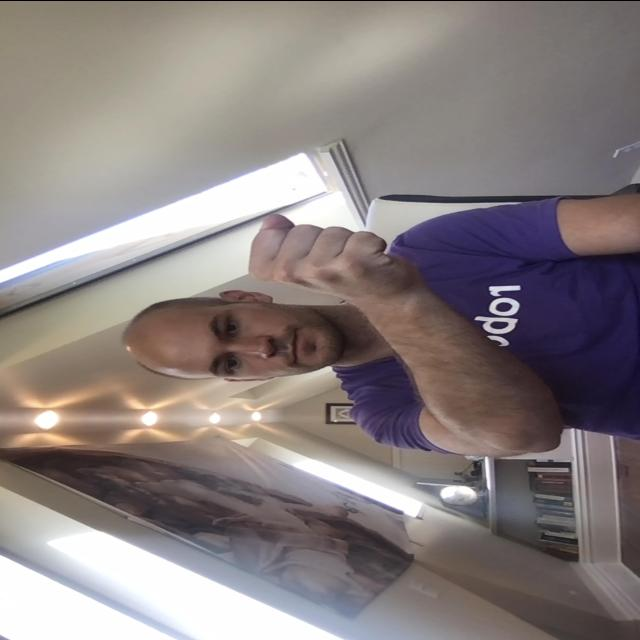Rock: (248, 203, 402, 301)
